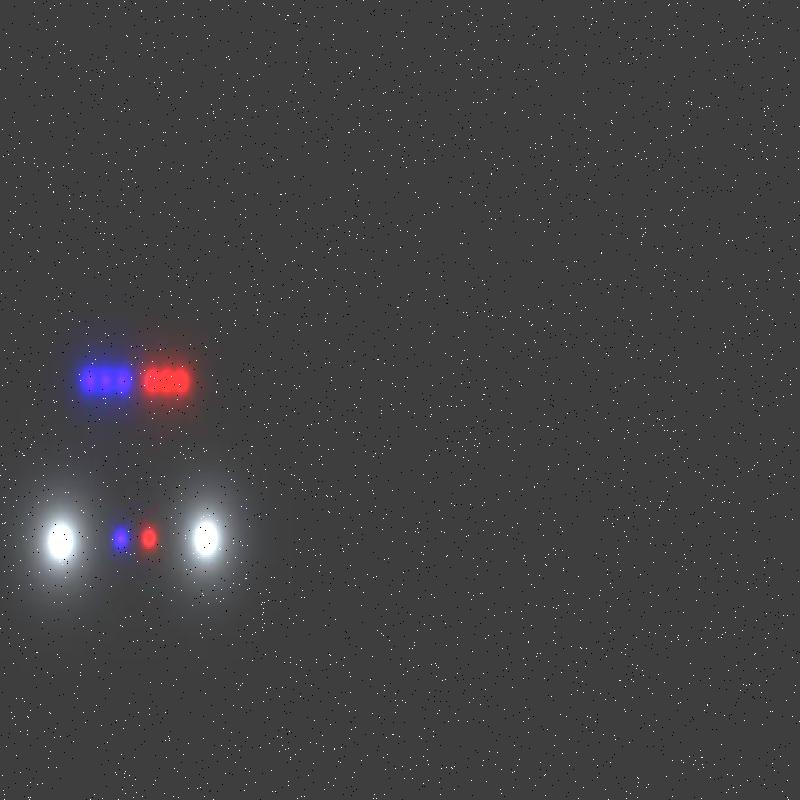AmbulanceSiren: (55, 348, 205, 408)
